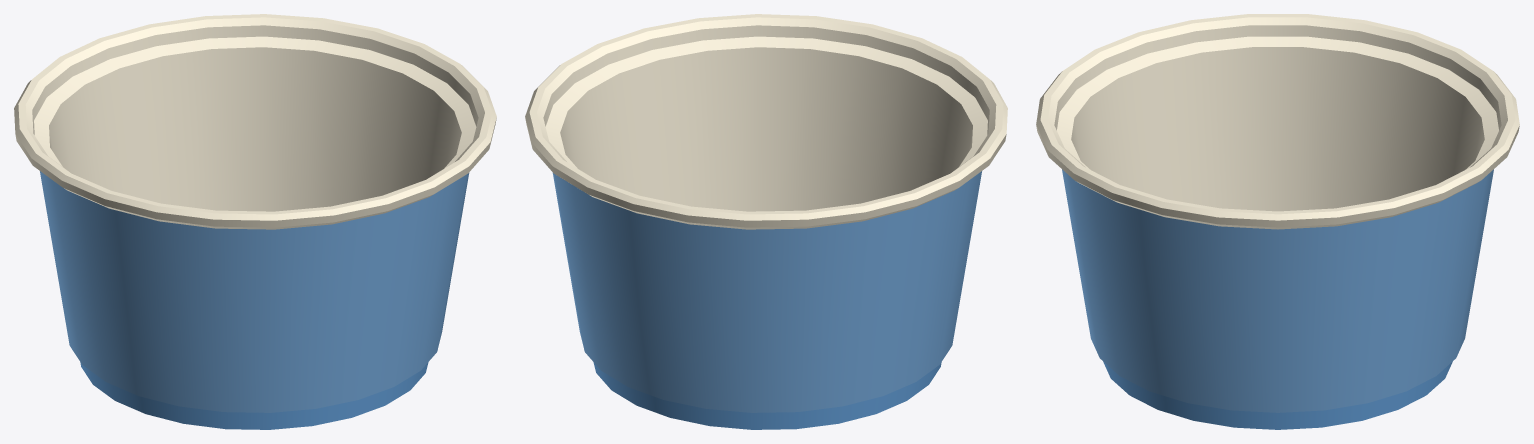
File: Cup S Blue.fbx
3 renders of one model, left to right at view 1: azimuth 30°, elevation 25°; view 2: azimuth 150°, elevation 25°; view 3: azimuth 270°, elevation 25°, orthographic.
Parts seen in each view (by area): view 1: Cup S Blue; view 2: Cup S Blue; view 3: Cup S Blue.
Boxes of the visible parts, bbox=[...] form: Cup S Blue: bbox=[14, 14, 496, 429]; Cup S Blue: bbox=[525, 14, 1007, 429]; Cup S Blue: bbox=[1036, 14, 1519, 429].
Bounding box in the file's own units: 0.7531 × 0.4164 × 0.7546.
